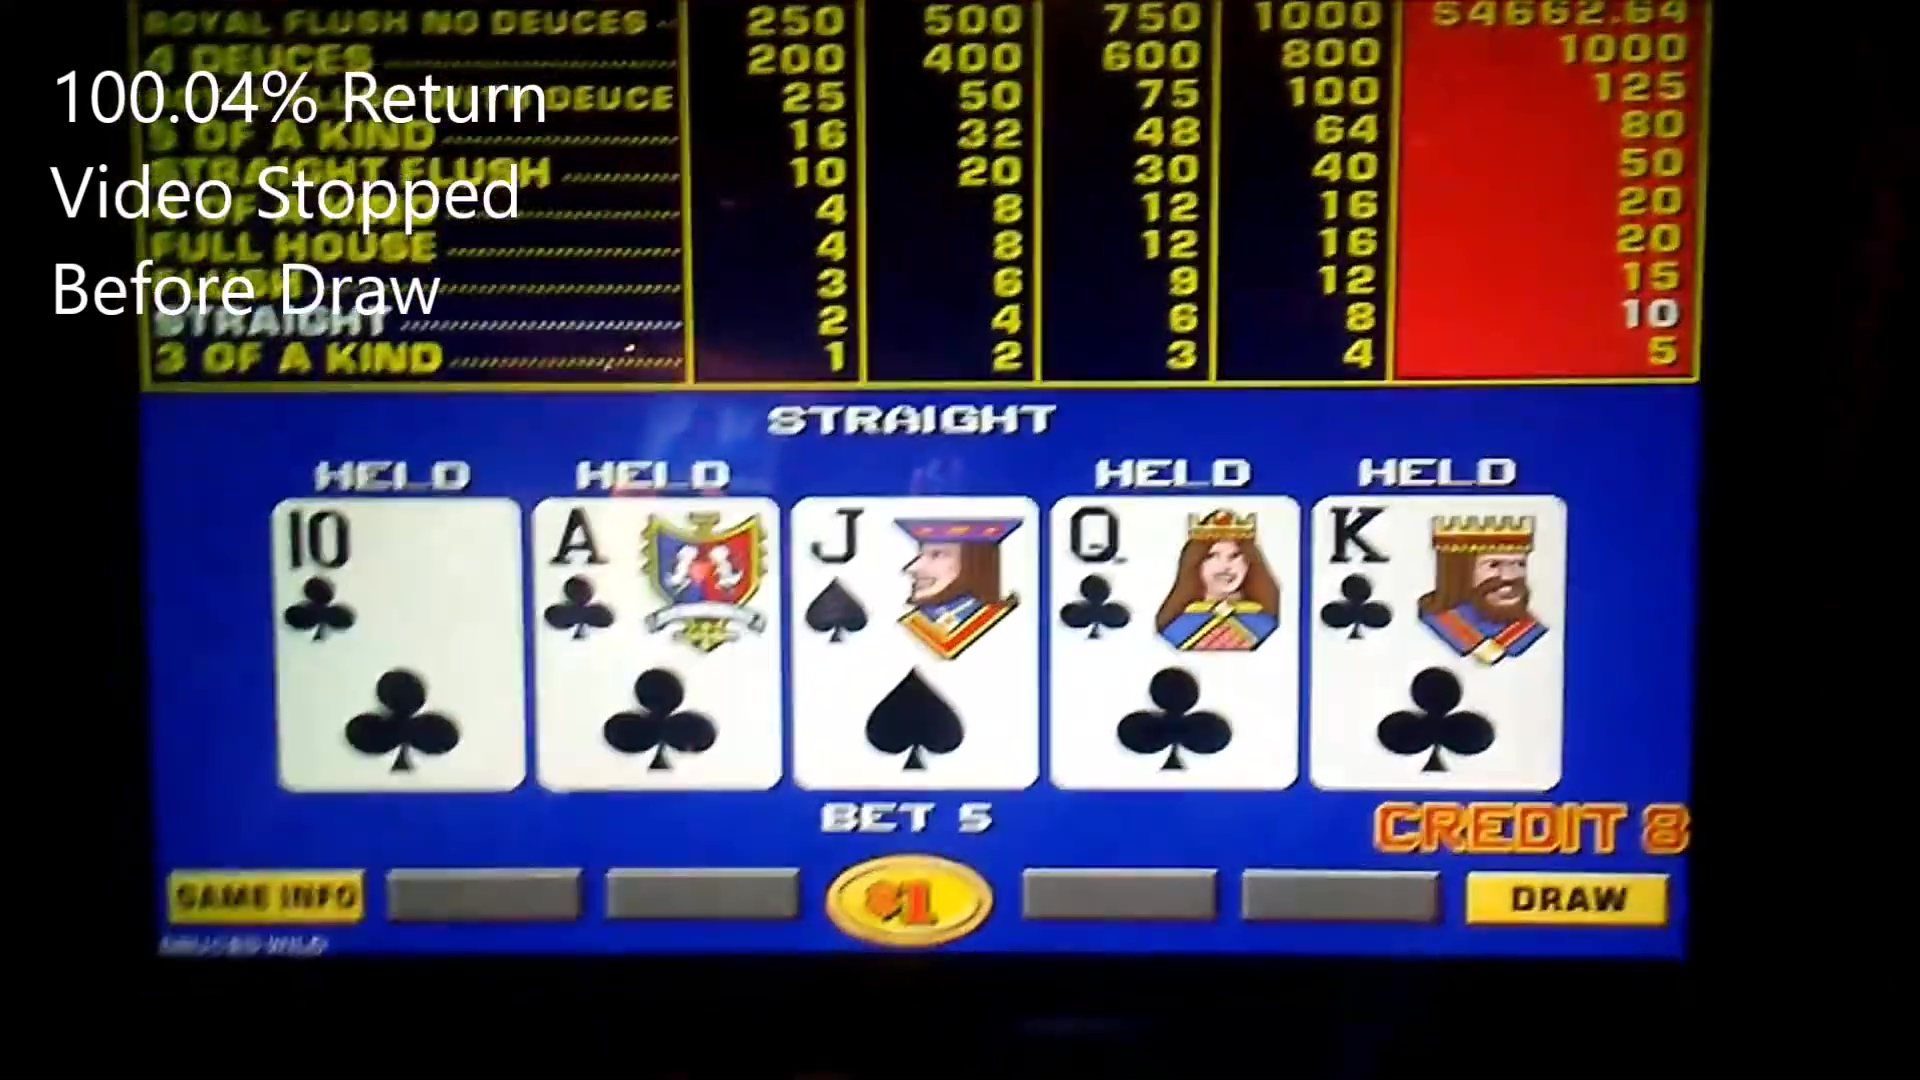CA: (535, 501, 781, 793)
CK: (1311, 495, 1563, 793)
CQ: (1056, 497, 1299, 791)
CT: (280, 498, 525, 793)
SJ: (795, 497, 1036, 790)
